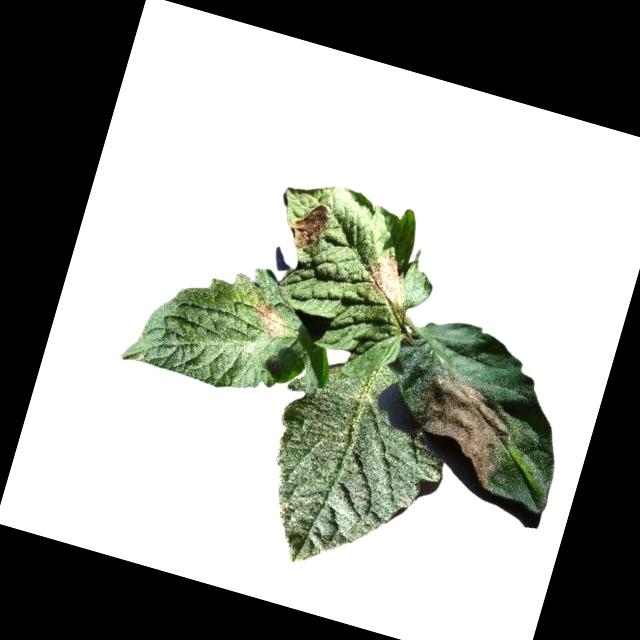Late_blight: (402, 367, 523, 492), (362, 250, 415, 309), (282, 198, 333, 255), (247, 296, 294, 345)
healthy: (241, 342, 467, 597)
